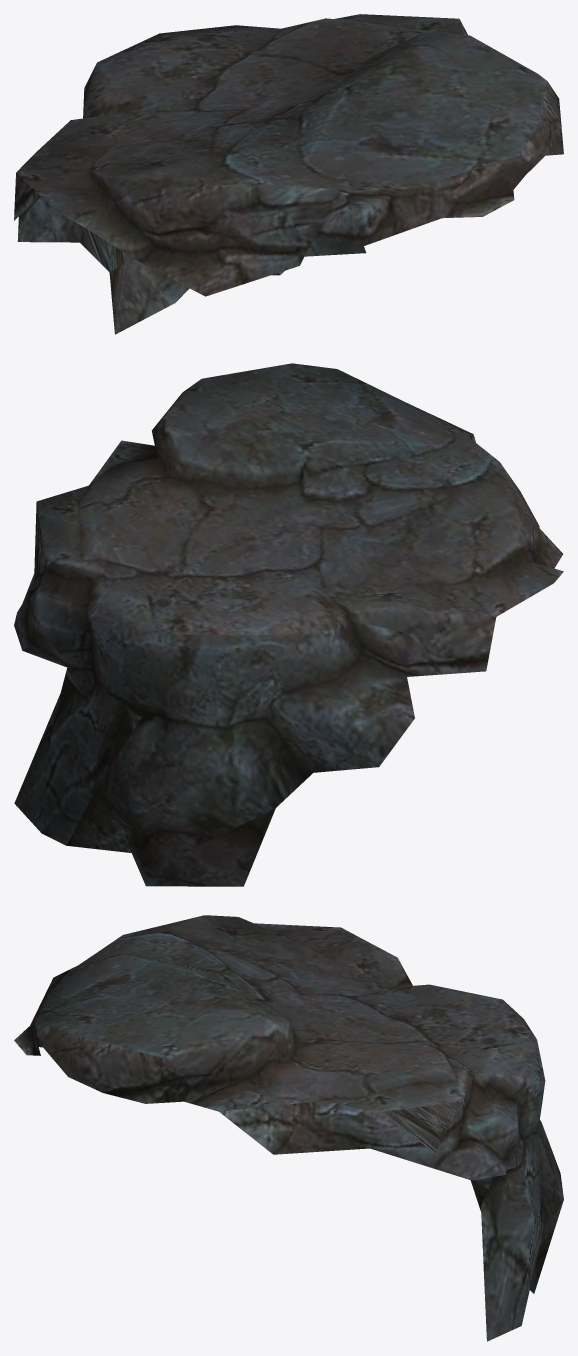
The model's file is S_Rock_Yellow036_H15.FBX.
3 views of the same model, one above another, from view 1: azimuth 30°, elevation 25°; view 2: azimuth 150°, elevation 25°; view 3: azimuth 270°, elevation 25° (orthographic). The views are drawn at different scales.
Parts seen in each view (by area): view 1: S_Rock_Yellow036_H15; view 2: S_Rock_Yellow036_H15; view 3: S_Rock_Yellow036_H15.
Boxes of the visible parts, x1,y1,x2,y2 form: S_Rock_Yellow036_H15: (14, 14, 563, 334); S_Rock_Yellow036_H15: (14, 363, 563, 886); S_Rock_Yellow036_H15: (14, 915, 563, 1341).
Bounding box in the file's own units: 871 × 941 × 603.
1 material, 1 textured.
